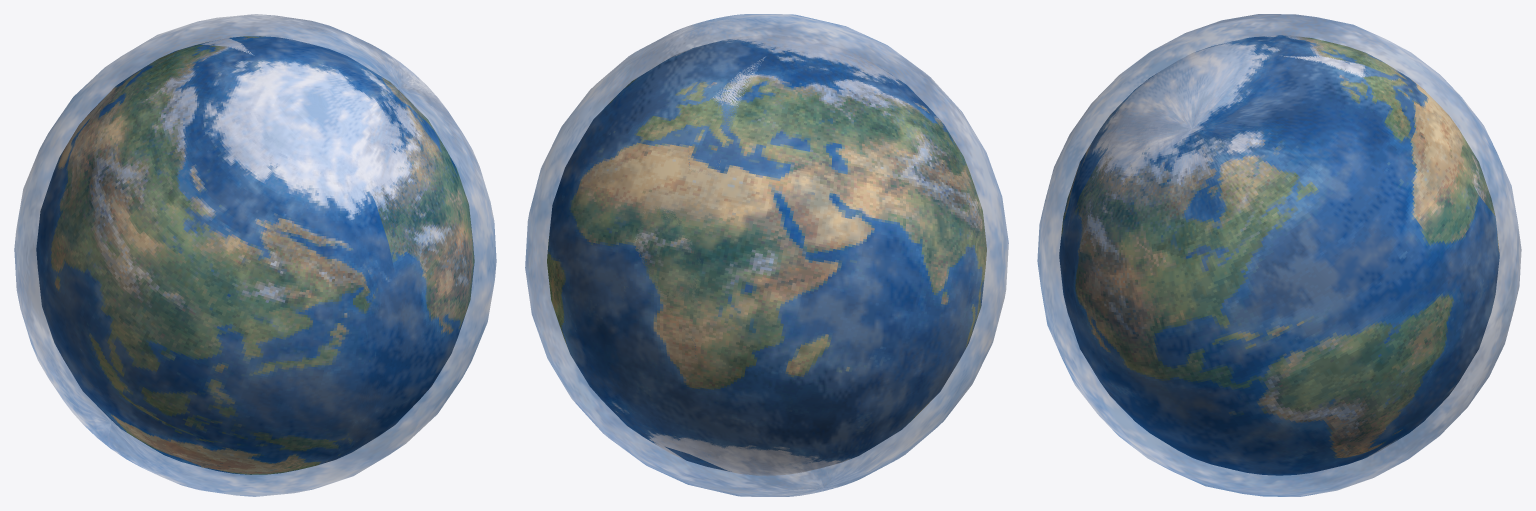
Rendered from world.glb.
3 views of the same model, side by side, from view 1: azimuth 30°, elevation 25°; view 2: azimuth 150°, elevation 25°; view 3: azimuth 270°, elevation 25° (orthographic).
Visible parts, largest first — view 1: Sphere.001, Sphere; view 2: Sphere.001, Sphere; view 3: Sphere.001, Sphere.
Boxes of the visible parts, box(x1,y1,x2,y2) form: Sphere.001: box(14, 14, 496, 496); Sphere: box(36, 36, 474, 474); Sphere.001: box(525, 14, 1008, 496); Sphere: box(547, 35, 986, 475); Sphere.001: box(1037, 14, 1521, 496); Sphere: box(1059, 35, 1499, 475).
Bounding box in the file's own units: 2.19 × 2.2 × 2.2.
2 materials, 2 textured.
